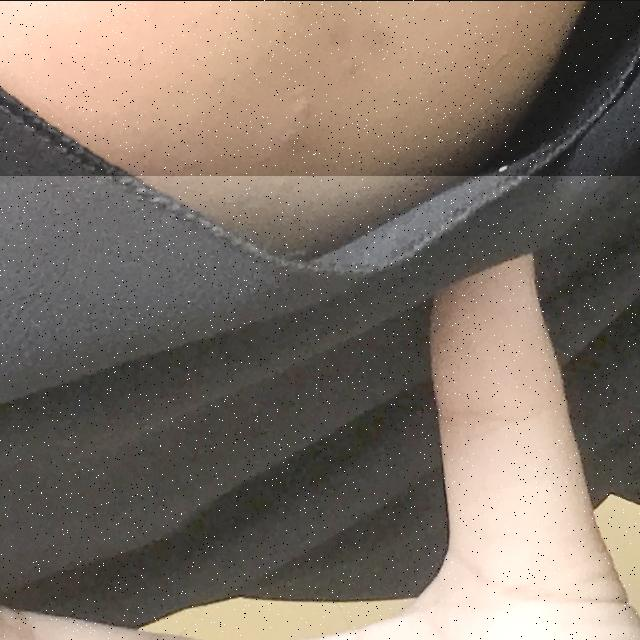mendengar: (0, 175, 640, 640)
